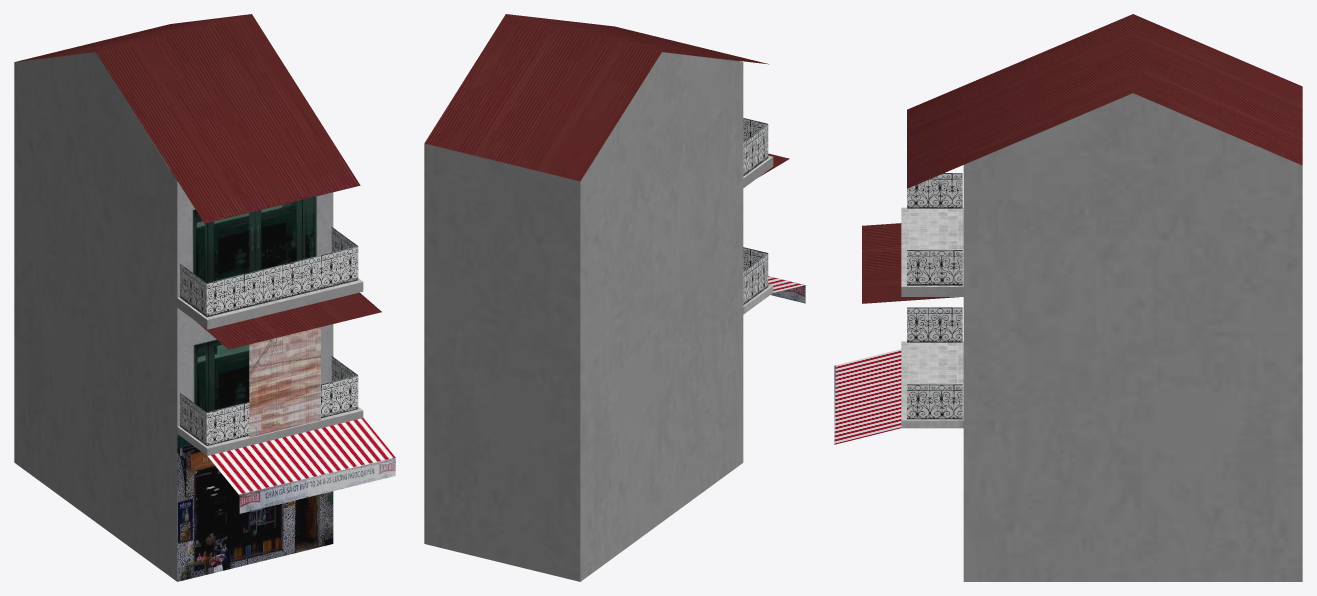
The picture shows the model from 3 angles, left to right: view 1: azimuth 30°, elevation 25°; view 2: azimuth 150°, elevation 25°; view 3: azimuth 270°, elevation 25°; orthographic projection. The views are drawn at different scales.
Parts seen in each view (by area): view 1: HN953___Matto_Menu; view 2: HN953___Matto_Menu; view 3: HN953___Matto_Menu.
Part boxes in pixels (box(x1,y1,x2,y2)): HN953___Matto_Menu: box(14, 14, 395, 581); HN953___Matto_Menu: box(424, 14, 805, 581); HN953___Matto_Menu: box(834, 14, 1302, 581).
Size of the model in its own units: 4.2 by 12.09 by 10.5.
1 material, 1 textured.
